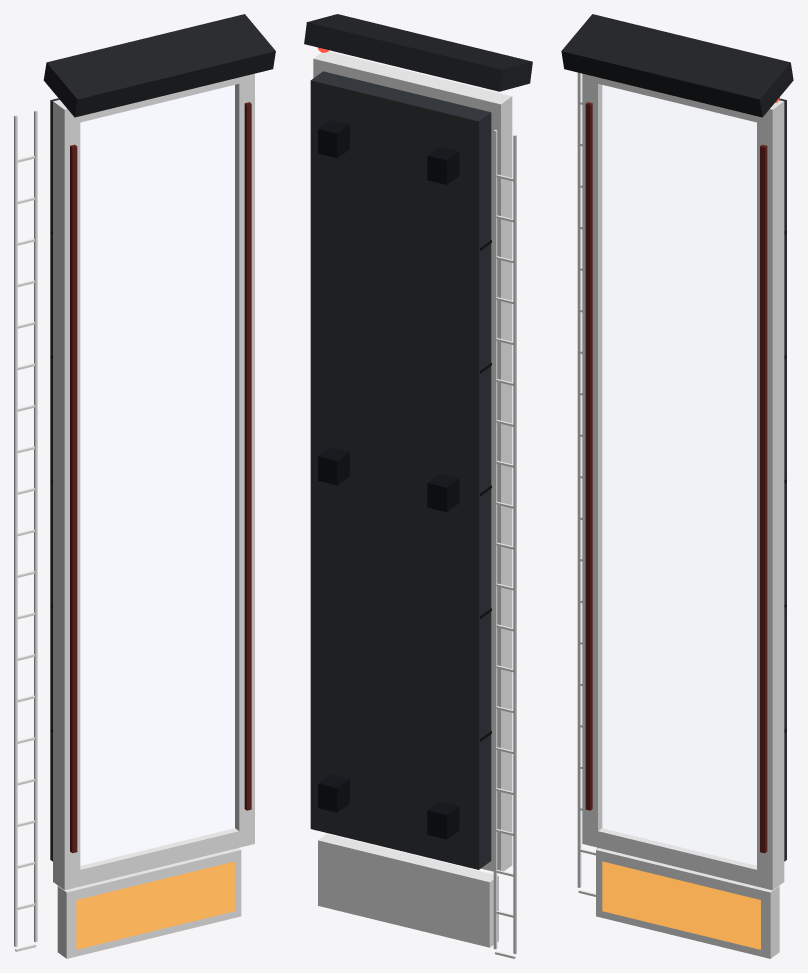
File: flagship_ad.gltf
3 renders of one model, left to right at view 1: azimuth 30°, elevation 25°; view 2: azimuth 150°, elevation 25°; view 3: azimuth 330°, elevation 25°, orthographic.
Parts seen in each view (by area): view 1: face, steel, graphite, deepred, info, detail_steel, panel; view 2: panel, steel, detail_steel, graphite, dark; view 3: face, steel, graphite, deepred, info, detail_steel, panel.
Boxes of the visible parts, x1,y1,x2,y2 form: face: (80, 85, 234, 865); steel: (53, 73, 254, 958); graphite: (43, 14, 275, 117); deepred: (70, 102, 251, 853); info: (76, 861, 234, 949); detail_steel: (14, 110, 37, 951); panel: (50, 98, 59, 861); panel: (310, 71, 491, 869); steel: (313, 51, 512, 947); detail_steel: (493, 130, 516, 958); graphite: (304, 14, 532, 91); dark: (318, 120, 459, 839); face: (602, 85, 756, 865); steel: (582, 73, 784, 958); graphite: (561, 14, 793, 117); deepred: (585, 102, 767, 853); info: (602, 861, 760, 949); detail_steel: (577, 72, 597, 896); panel: (779, 98, 786, 861).
Size of the model in its own units: 5.58 by 21.52 by 2.34.
